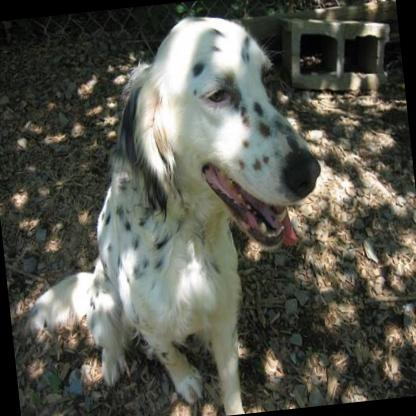English_setter: (0, 0, 344, 416)
